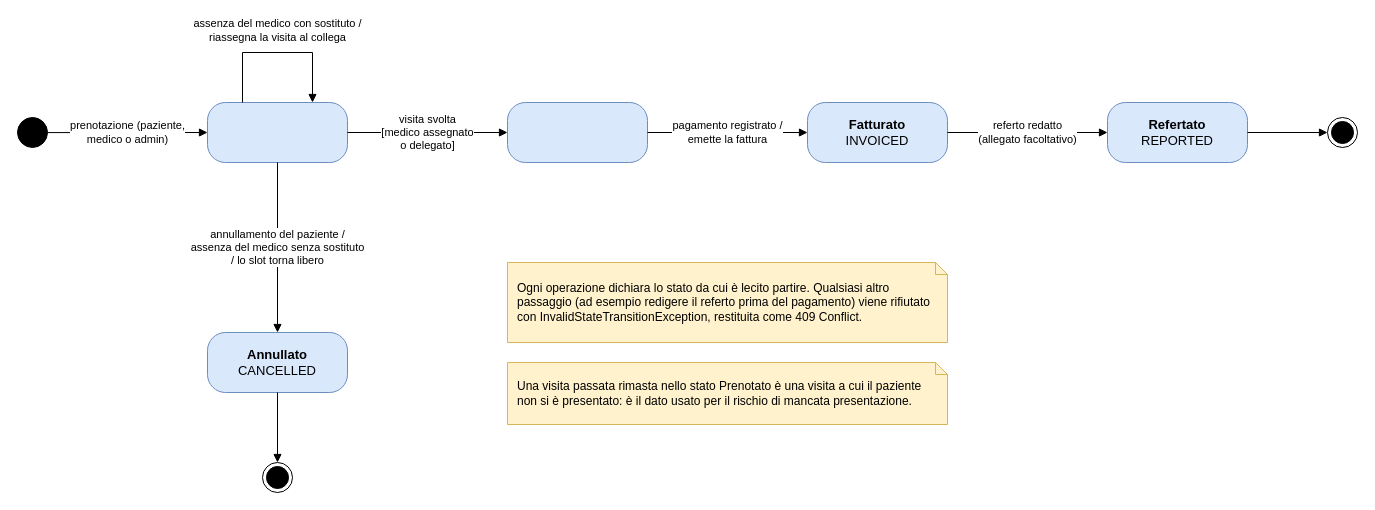
This 1375x510 diagram has some shape labels left out. The shapes that lost their labels are listed below. From the top down, each one's centre as x and y in pixels, then its label:
At (x=277, y=132): "Prenotato BOOKED".
At (x=577, y=132): "Completato COMPLETED".
